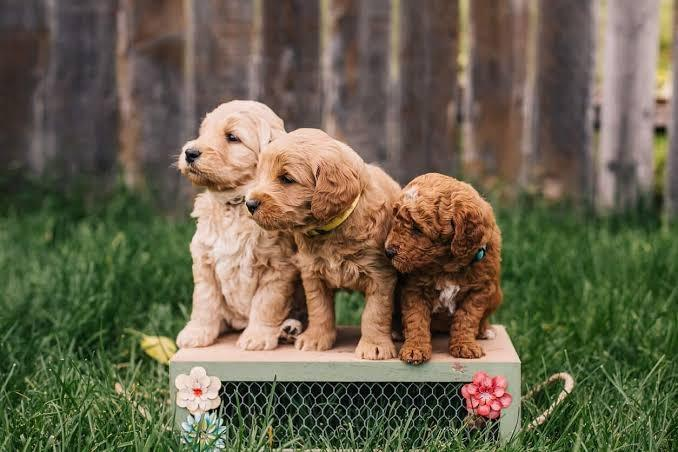puppy-dog: (248, 128, 405, 362), (173, 100, 303, 353), (385, 171, 503, 365)
